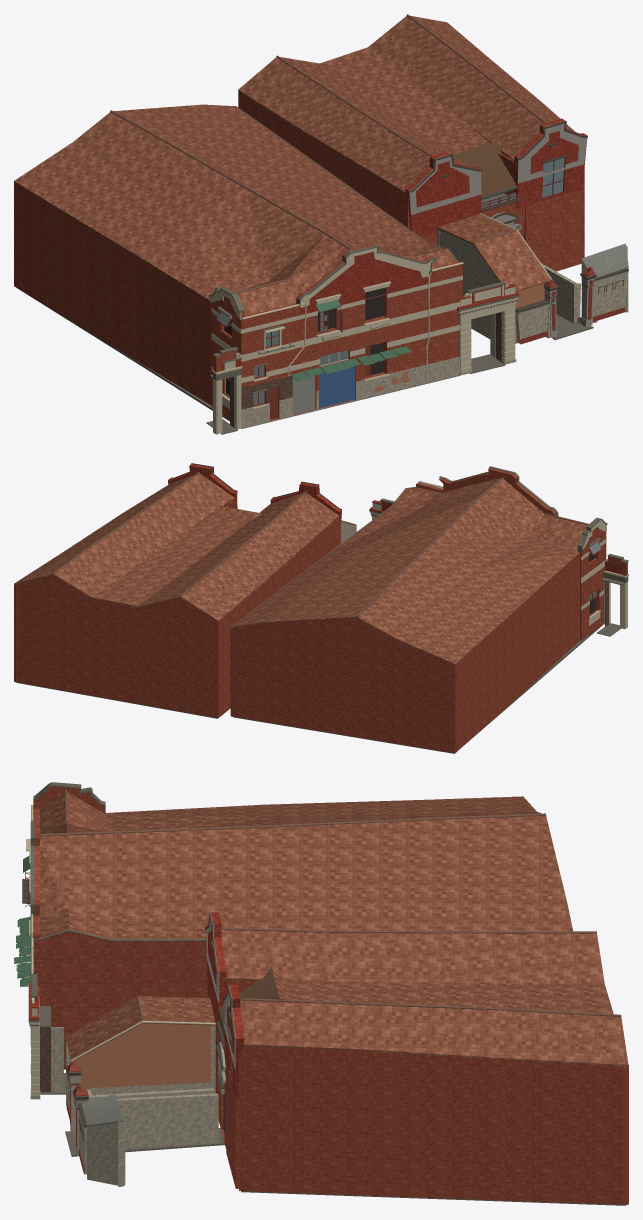
The model's file is yangpu-yiqingli-jingxing-310-314-lane-houses-web.glb.
3 renders of one model, top to bottom at view 1: azimuth 30°, elevation 25°; view 2: azimuth 150°, elevation 25°; view 3: azimuth 270°, elevation 25°, orthographic. The views are drawn at different scales.
Visible parts, largest first — view 1: 颐庆里住宅，景星路街面; view 2: 颐庆里住宅，景星路街面; view 3: 颐庆里住宅，景星路街面.
Boxes of the visible parts, x1,y1,x2,y2 form: 颐庆里住宅，景星路街面: (14, 14, 628, 434); 颐庆里住宅，景星路街面: (14, 463, 628, 753); 颐庆里住宅，景星路街面: (14, 782, 628, 1205).
Size of the model in its own units: 32.16 by 9.81 by 29.62.
28 materials, 5 textured.
